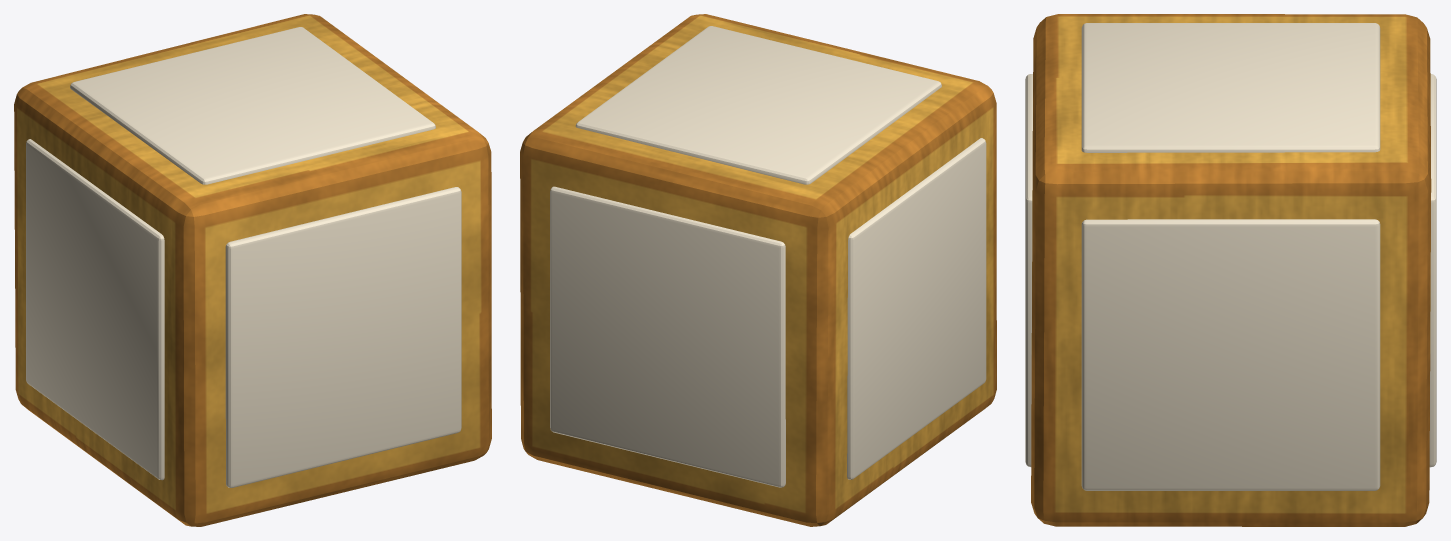
Rendered from block.glb.
3 views of the same model, side by side, from view 1: azimuth 30°, elevation 25°; view 2: azimuth 150°, elevation 25°; view 3: azimuth 270°, elevation 25° (orthographic). The views are drawn at different scales.
Visible parts, largest first — view 1: Cube, Front, Left, Top; view 2: Cube, Back, Left, Top; view 3: Cube, Right, Top, Front, Back.
Boxes of the visible parts, x1,y1,x2,y2 form: Cube: (14,14,491,526); Front: (225,187,461,487); Left: (26,139,164,480); Top: (70,27,435,184); Cube: (520,14,996,526); Back: (550,186,785,487); Left: (847,138,986,479); Top: (575,26,941,184); Cube: (1031,14,1431,526); Right: (1081,219,1380,490); Top: (1081,23,1380,152); Front: (1025,74,1032,466); Back: (1429,74,1436,467).
Bounding box in the file's own units: 0.826 × 0.8134 × 0.826.
Materials: 2 (1 with a texture image).
